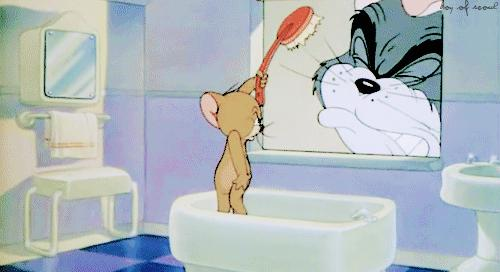jerry: (199, 68, 271, 220)
